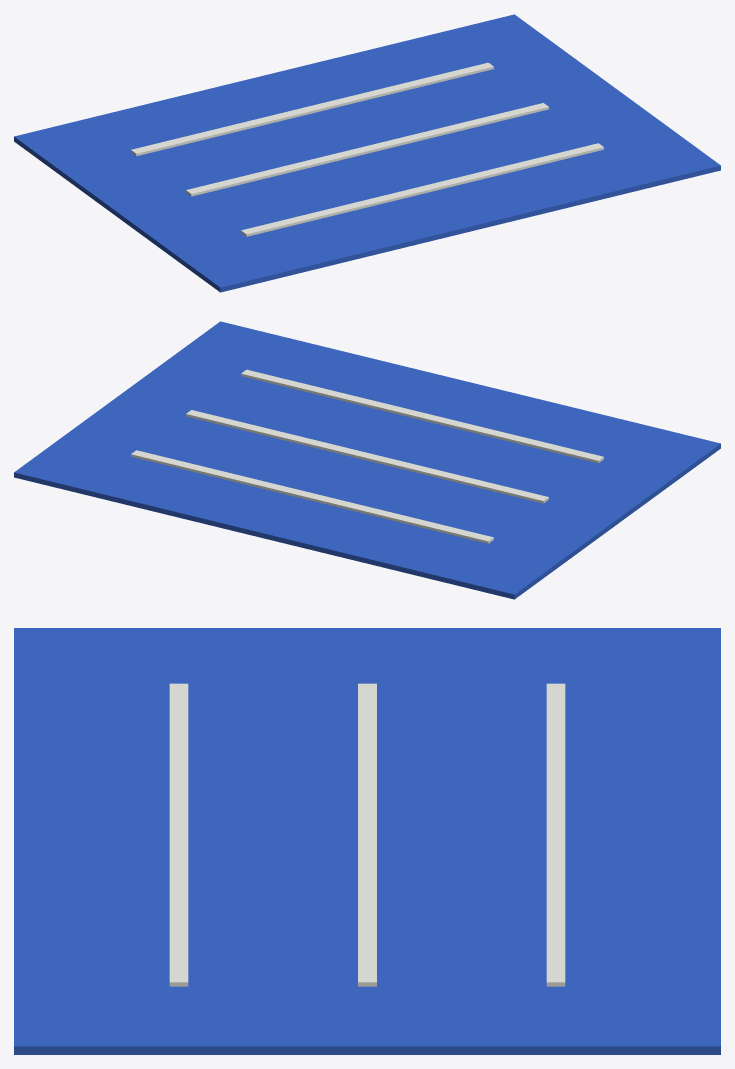
File: super_cart_plan.glb
The picture shows the model from 3 angles, top to bottom: view 1: azimuth 30°, elevation 25°; view 2: azimuth 150°, elevation 25°; view 3: azimuth 270°, elevation 25°; orthographic projection. The views are drawn at different scales.
Visible parts, largest first — view 1: paper_plan_blue, lines_plan_line (×3); view 2: paper_plan_blue, lines_plan_line (×3); view 3: paper_plan_blue, lines_plan_line (×3).
Boxes of the visible parts, left/top/right/bottom form: paper_plan_blue: left=14, top=14, right=720, bottom=292; lines_plan_line (×3): left=131, top=62, right=603, bottom=236; paper_plan_blue: left=14, top=321, right=720, bottom=599; lines_plan_line (×3): left=131, top=369, right=603, bottom=543; paper_plan_blue: left=14, top=628, right=720, bottom=1054; lines_plan_line (×3): left=169, top=683, right=565, bottom=986.
Bounding box in the file's own units: 0.42 × 0.006 × 0.3.
